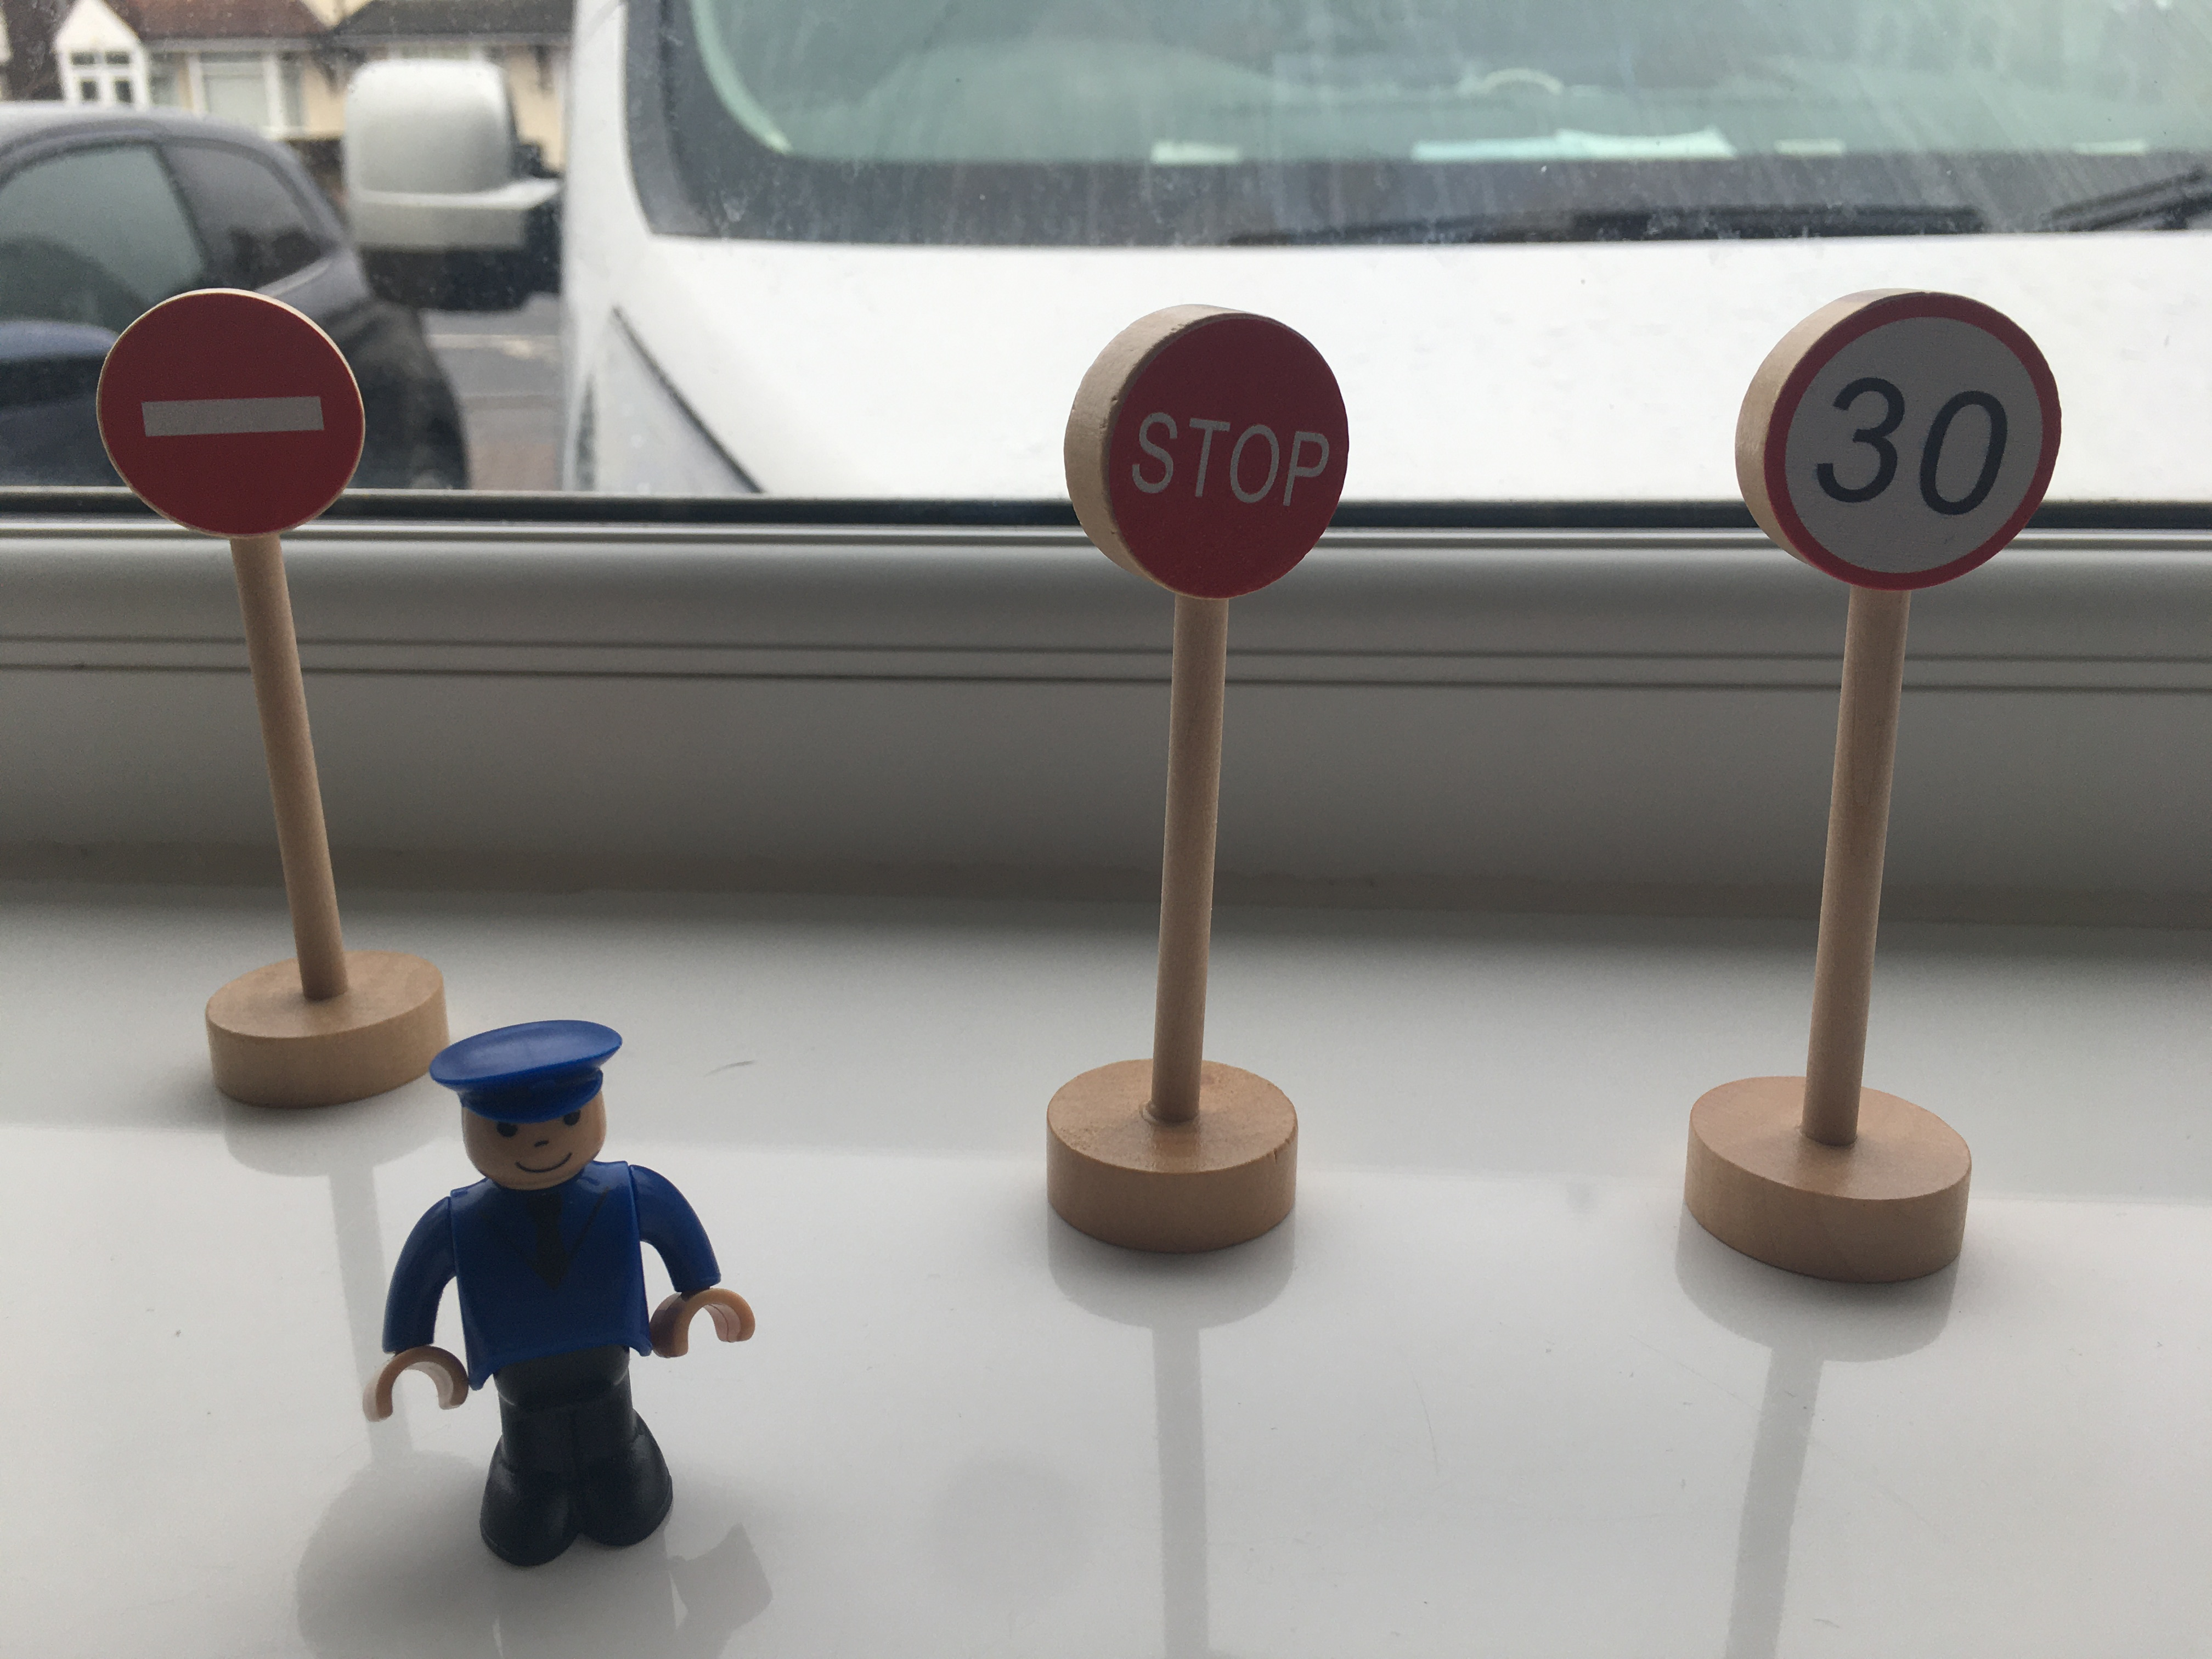Traffic_Sign_30: (1761, 287, 2059, 586)
Traffic_Sign_No_Entry: (93, 287, 371, 538)
Traffic_Sign_Stop: (1111, 308, 1341, 596)
person: (364, 1022, 758, 1581)
